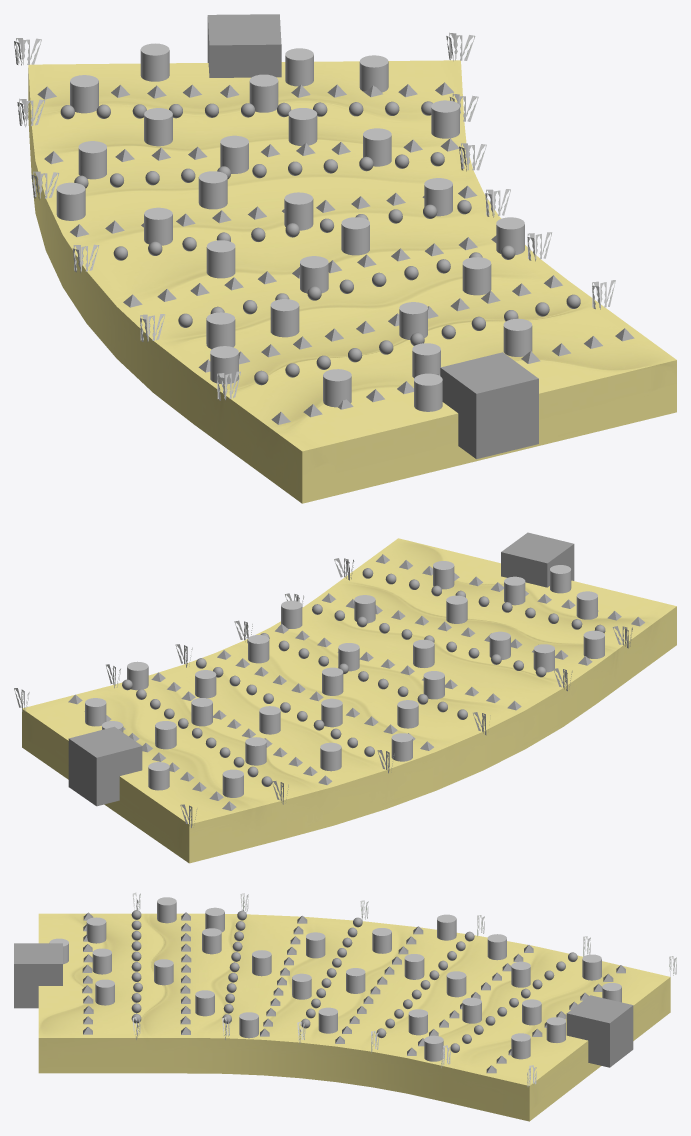
Rendered from assets009_Streckenteil_rechts002.fbx.
3 renders of one model, top to bottom at view 1: azimuth 30°, elevation 25°; view 2: azimuth 150°, elevation 25°; view 3: azimuth 270°, elevation 25°, orthographic. The views are drawn at different scales.
Parts seen in each view (by area): view 1: streckenteil_rechtskurve_geo2, a (×12), b (×10), startpoint, c (×6), startpoint2, d; view 2: streckenteil_rechtskurve_geo2, a (×12), b (×10), startpoint2, c (×5), startpoint, d; view 3: streckenteil_rechtskurve_geo2, a (×11), b (×10), startpoint2, c (×6), startpoint.
Part boxes in pixels (box(x1,y1,x2,y2)): streckenteil_rechtskurve_geo2: box(28, 60, 676, 503); a (×12): box(206, 178, 532, 411); b (×10): box(56, 100, 459, 293); startpoint: box(440, 352, 538, 459); c (×6): box(70, 48, 388, 173); startpoint2: box(207, 14, 281, 77); d: box(140, 43, 169, 81); streckenteil_rechtskurve_geo2: box(22, 538, 676, 863); a (×12): box(248, 561, 604, 672); b (×10): box(127, 639, 444, 771); startpoint2: box(68, 726, 142, 806); c (×5): box(85, 698, 280, 797); startpoint: box(501, 532, 574, 587); d: box(148, 762, 169, 790); streckenteil_rechtskurve_geo2: box(38, 913, 670, 1121); a (×11): box(86, 897, 337, 1038); b (×10): box(252, 914, 506, 1061); startpoint2: box(566, 995, 633, 1067); c (×6): box(446, 954, 601, 1059); startpoint: box(14, 943, 62, 1008).
Bounding box in the file's own units: 43.63 × 6.5 × 67.6.
